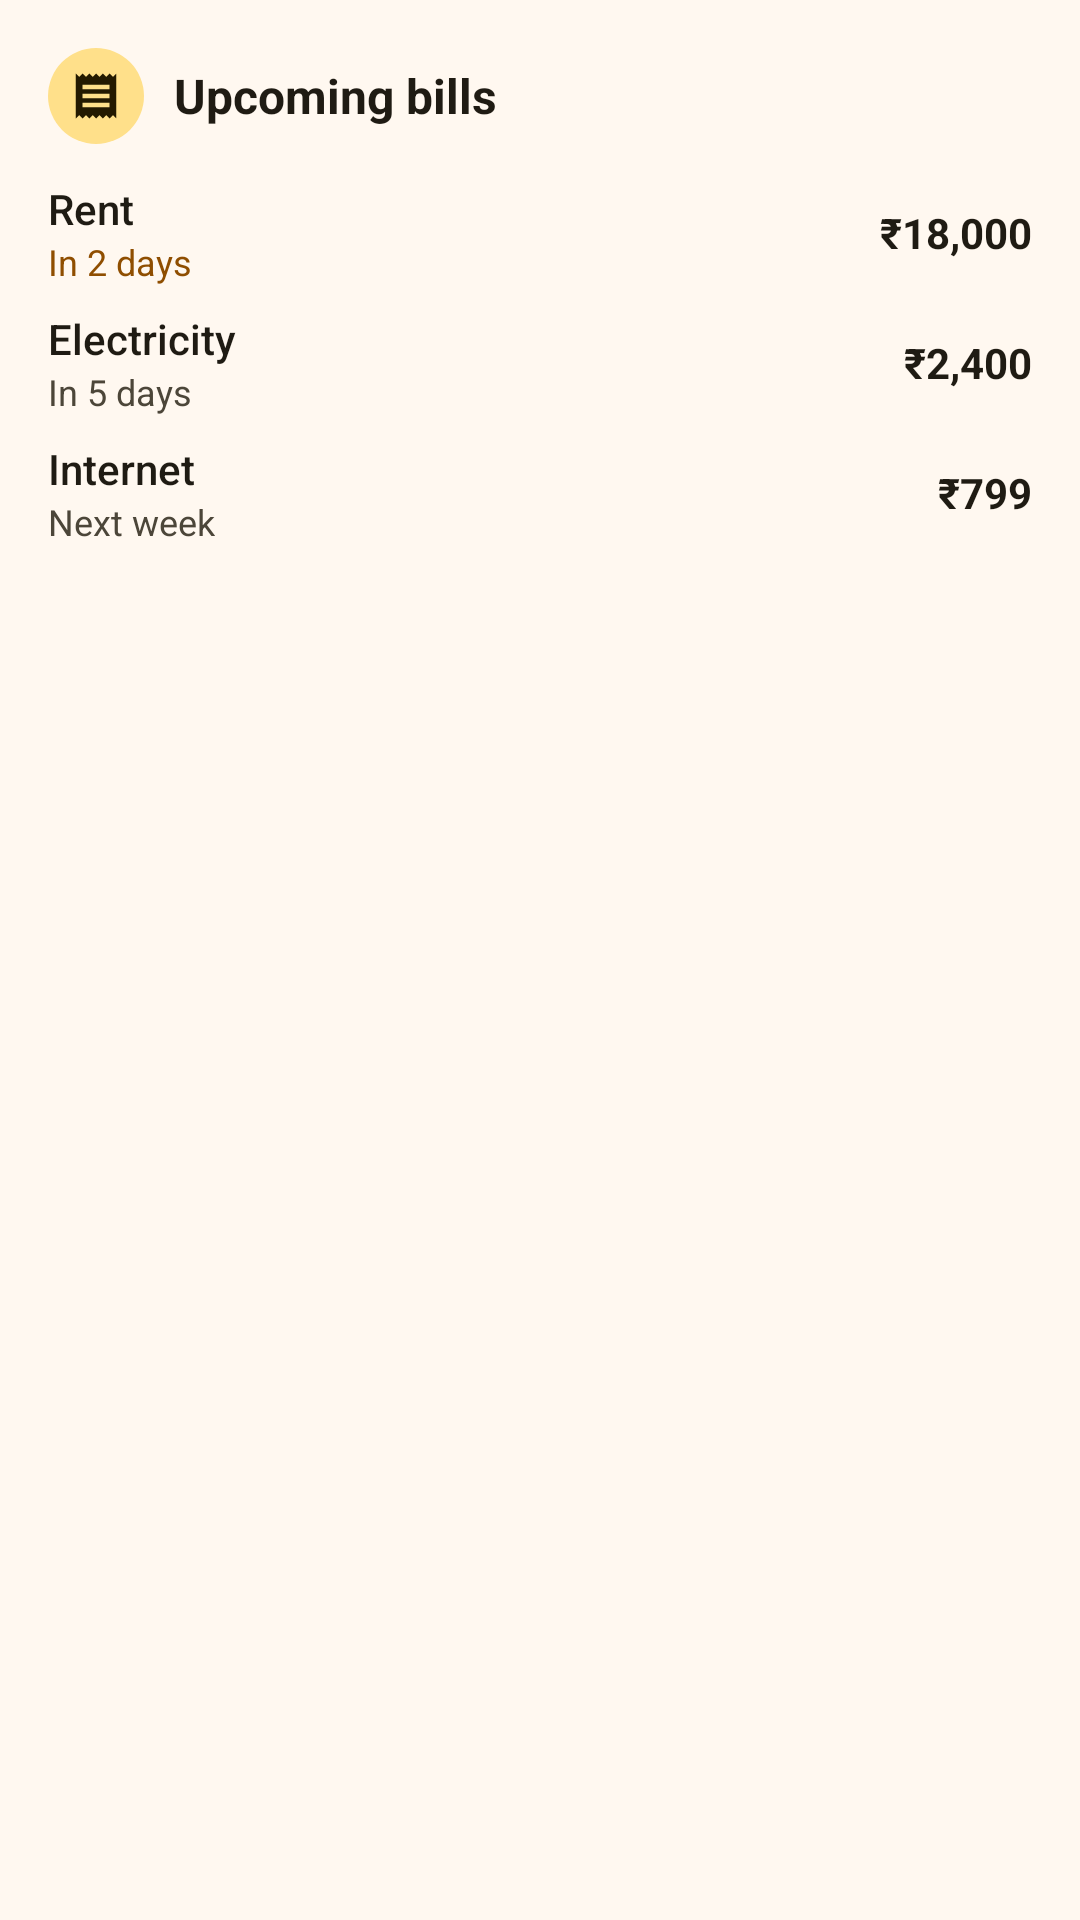

Screen size 1080*1920. Icon name, then its box in pixels as bbox=(x1, y1, x2, y2):
widget receipt: bbox=(75, 73, 117, 119)
